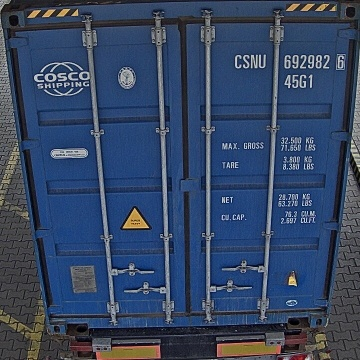serial_id: (235, 54, 345, 68)
